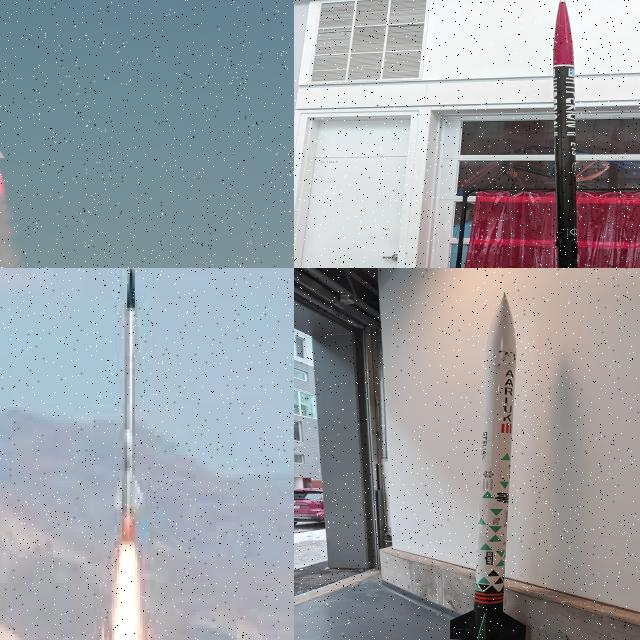Rocket: (450, 292, 526, 640), (110, 268, 147, 522), (553, 0, 578, 268), (0, 60, 5, 160)
